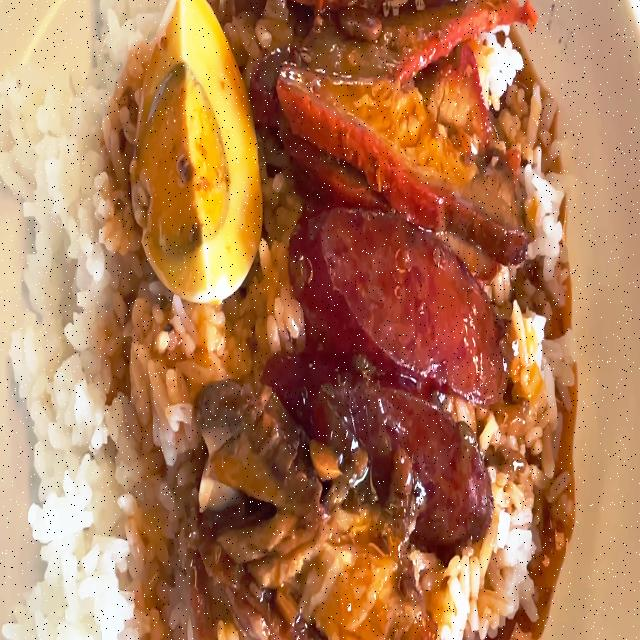boiled_egg: (146, 39, 242, 288)
chainese_sausage: (319, 232, 467, 473)
crispy_pork: (245, 543, 459, 640), (198, 398, 317, 558)
red_pork: (276, 0, 455, 209)
red_pork_and_crispy_pork: (0, 0, 640, 640)
rice: (32, 0, 133, 640), (113, 310, 202, 640)
